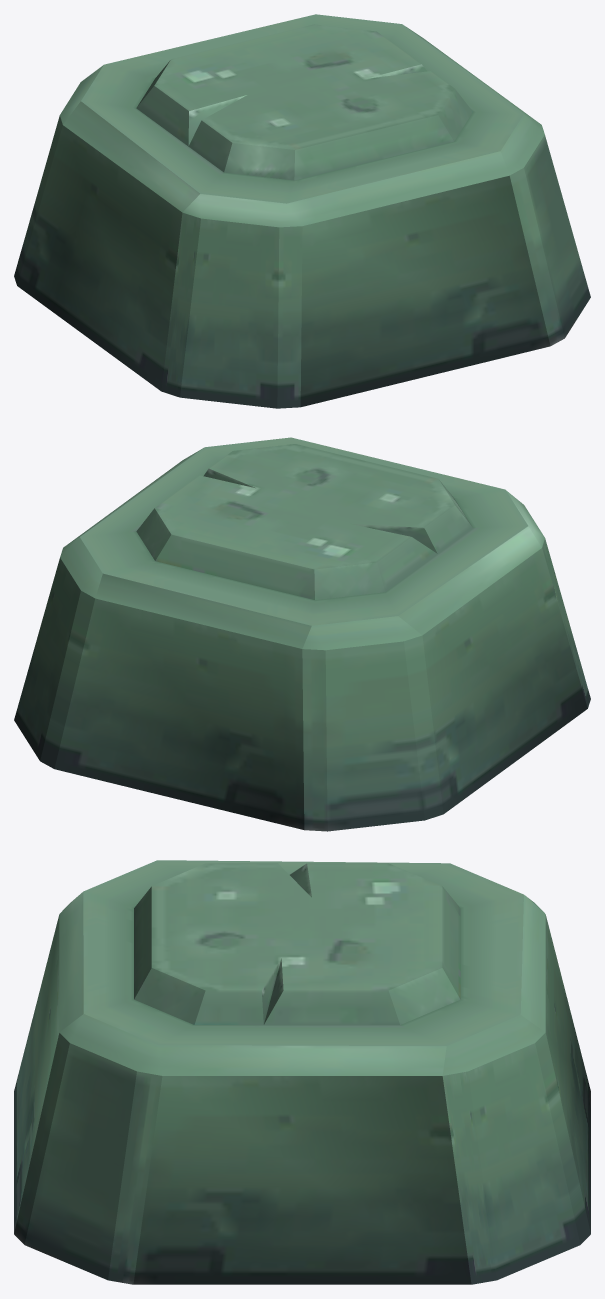
The model's file is [GIMMICK]small_rock_dash_2 1 (merge).fbx.
3 views of the same model, one above another, from view 1: azimuth 30°, elevation 25°; view 2: azimuth 150°, elevation 25°; view 3: azimuth 270°, elevation 25° (orthographic). The views are drawn at different scales.
Parts seen in each view (by area): view 1: [GIMMICK]small_rock_dash_2 1; view 2: [GIMMICK]small_rock_dash_2 1; view 3: [GIMMICK]small_rock_dash_2 1.
Boxes of the visible parts, x1,y1,x2,y2 form: [GIMMICK]small_rock_dash_2 1: [14, 14, 590, 408]; [GIMMICK]small_rock_dash_2 1: [14, 437, 590, 831]; [GIMMICK]small_rock_dash_2 1: [14, 860, 590, 1284].
Size of the model in its own units: 0.9779 by 0.441 by 0.9779.
